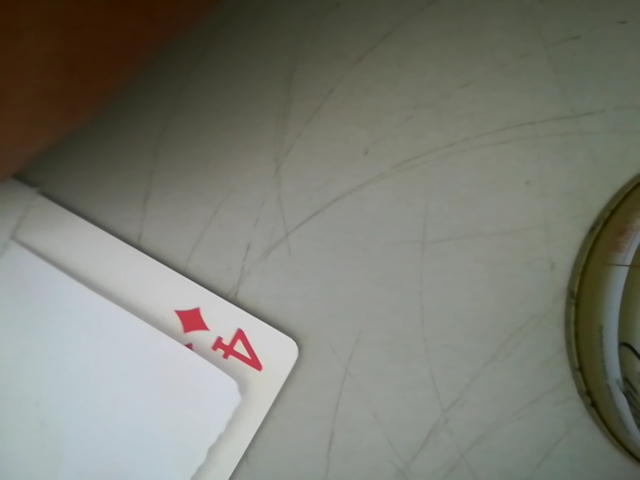fk 4: (155, 299, 280, 378)
